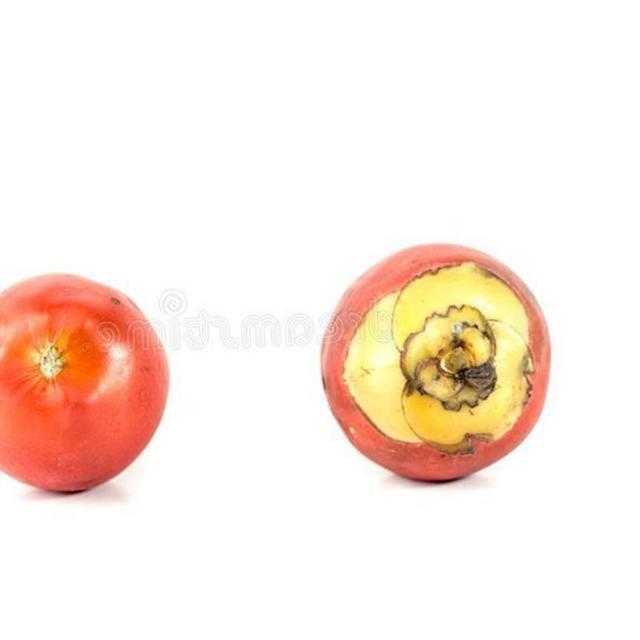good: (324, 249, 550, 485), (0, 273, 171, 497)
